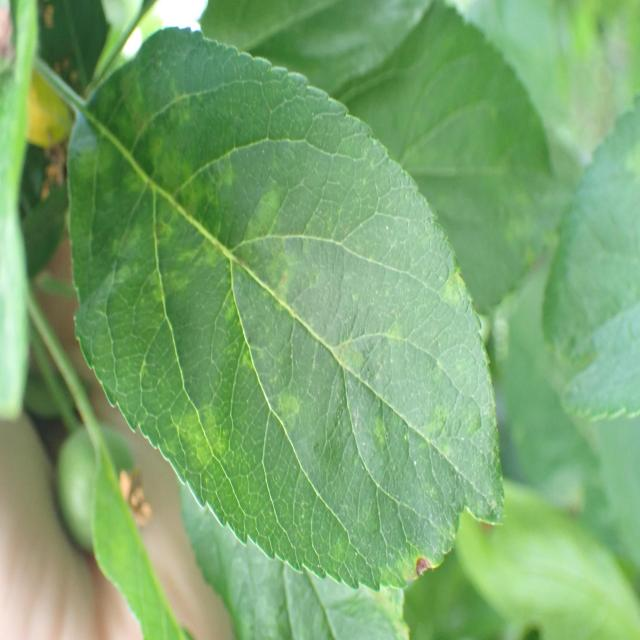scab: (71, 71, 491, 570)
